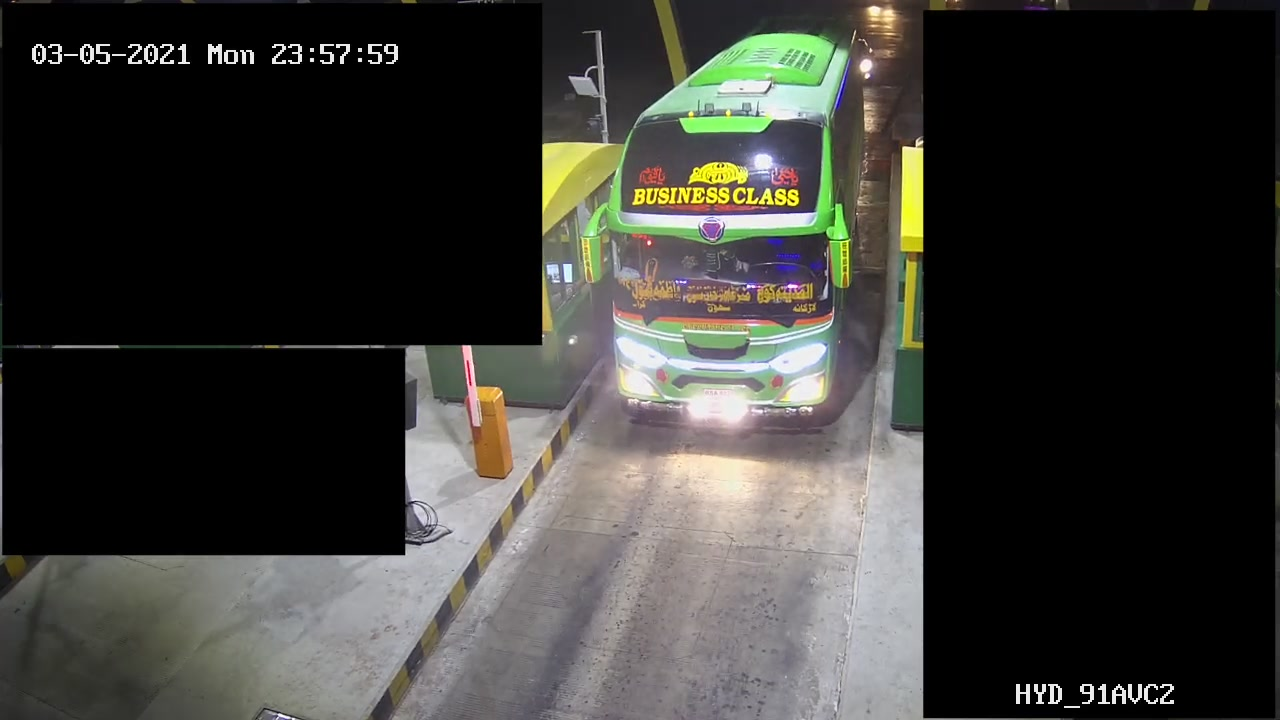F4: (595, 12, 865, 442)
